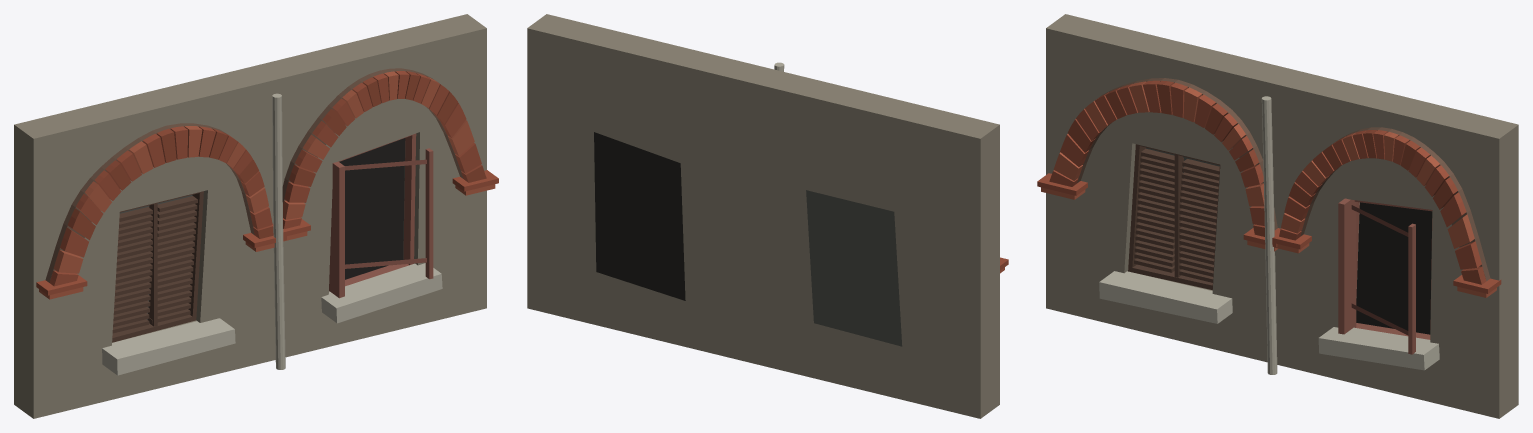
The model's file is huangpu-zizhong-424-426-paired-brick-arches-raw.glb.
The picture shows the model from 3 angles, left to right: view 1: azimuth 30°, elevation 25°; view 2: azimuth 150°, elevation 25°; view 3: azimuth 330°, elevation 25°; orthographic projection.
Visible parts, largest first — view 1: 自忠路424、426号临街二层双砖券与木窗; view 2: 自忠路424、426号临街二层双砖券与木窗; view 3: 自忠路424、426号临街二层双砖券与木窗.
Boxes of the visible parts, bbox=[...] form: 自忠路424、426号临街二层双砖券与木窗: bbox=[14, 14, 498, 418]; 自忠路424、426号临街二层双砖券与木窗: bbox=[527, 14, 1008, 418]; 自忠路424、426号临街二层双砖券与木窗: bbox=[1037, 14, 1518, 418].
Bounding box in the file's own units: 3.76 × 2.22 × 0.52.
